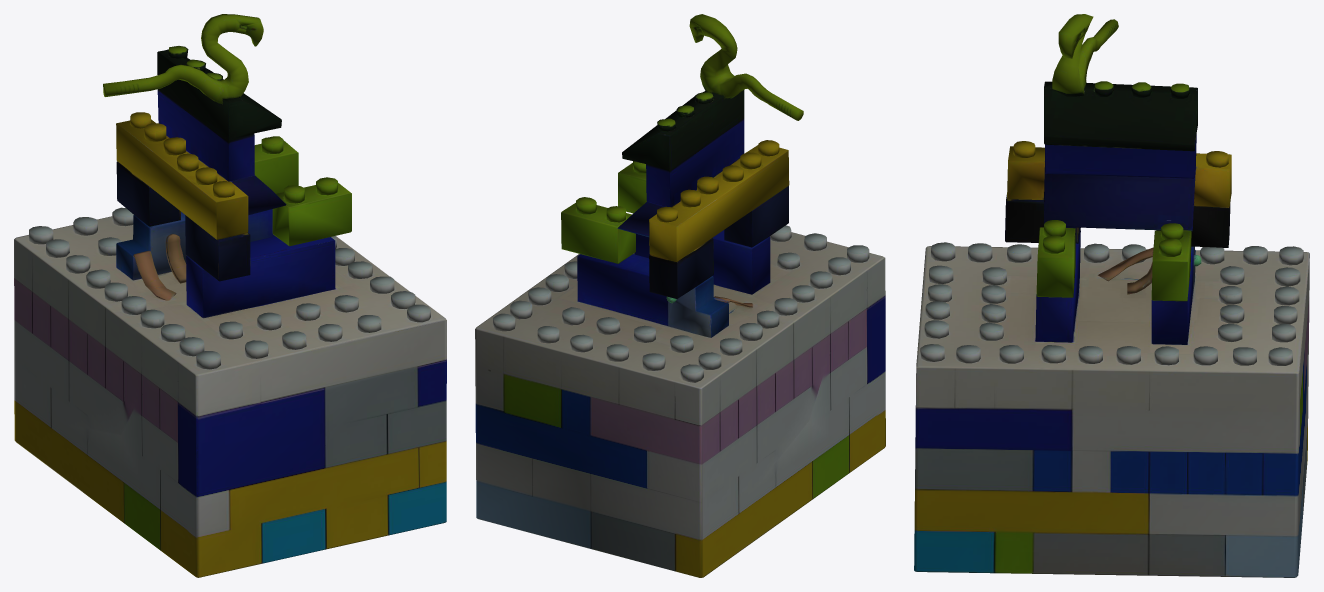
The model's file is object_62_asset_134e8c1d.glb.
The picture shows the model from 3 angles, left to right: view 1: azimuth 30°, elevation 25°; view 2: azimuth 150°, elevation 25°; view 3: azimuth 270°, elevation 25°; orthographic projection. The views are drawn at different scales.
Visible parts, largest first — view 1: tripo_node_bea16434-1d65-409f-b6f7-dd98ff0b1dd5; view 2: tripo_node_bea16434-1d65-409f-b6f7-dd98ff0b1dd5; view 3: tripo_node_bea16434-1d65-409f-b6f7-dd98ff0b1dd5.
Part boxes in pixels (x1,y1,x2,y2): tripo_node_bea16434-1d65-409f-b6f7-dd98ff0b1dd5: [14, 14, 446, 577]; tripo_node_bea16434-1d65-409f-b6f7-dd98ff0b1dd5: [475, 14, 885, 577]; tripo_node_bea16434-1d65-409f-b6f7-dd98ff0b1dd5: [914, 14, 1309, 577].
Bounding box in the file's own units: 0.5488 × 0.998 × 0.7324.
1 material, 1 textured.
